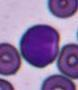L: (20, 23, 60, 68)
